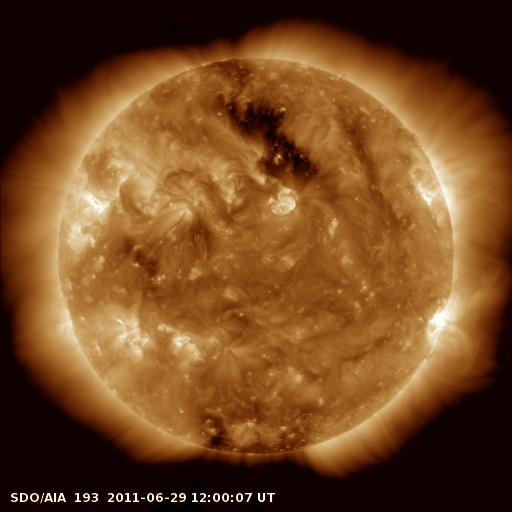coronal_hole: (217, 88, 324, 184)
